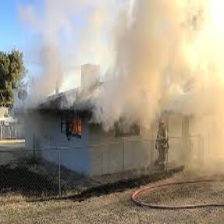smoke: (95, 1, 203, 125)
